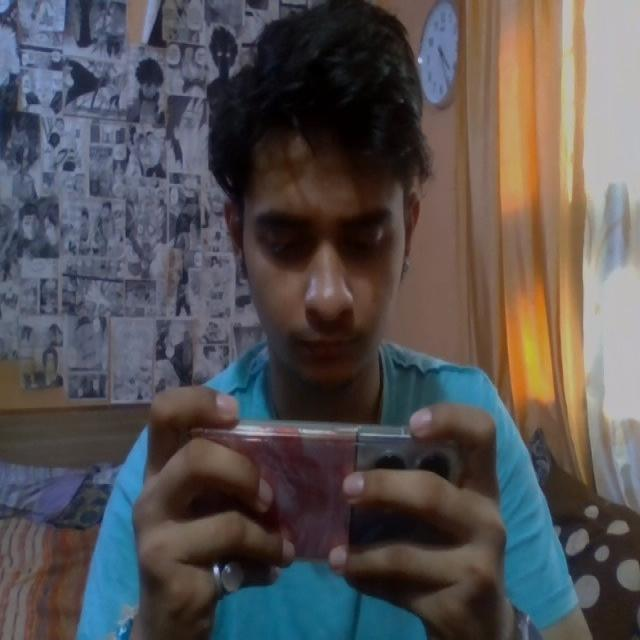phone: (176, 428, 463, 578)
using-phone: (68, 10, 600, 640)
